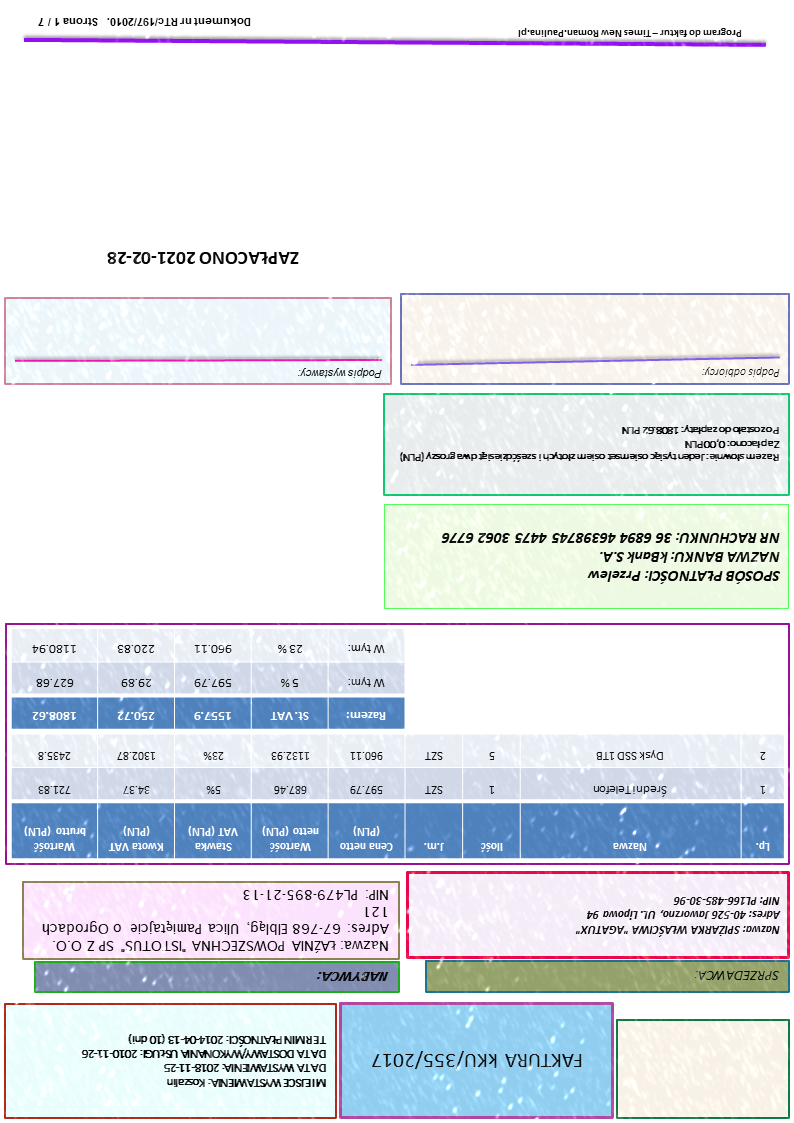Table: (11, 733, 786, 860), (9, 627, 406, 731)
TextBox: (41, 887, 393, 956), (440, 526, 784, 590), (395, 422, 782, 468), (81, 1031, 329, 1094), (574, 894, 783, 939), (370, 1048, 585, 1073), (105, 249, 301, 269), (33, 14, 253, 31), (515, 25, 746, 41), (693, 967, 783, 987), (295, 364, 384, 382), (701, 364, 783, 383), (315, 968, 391, 987)
